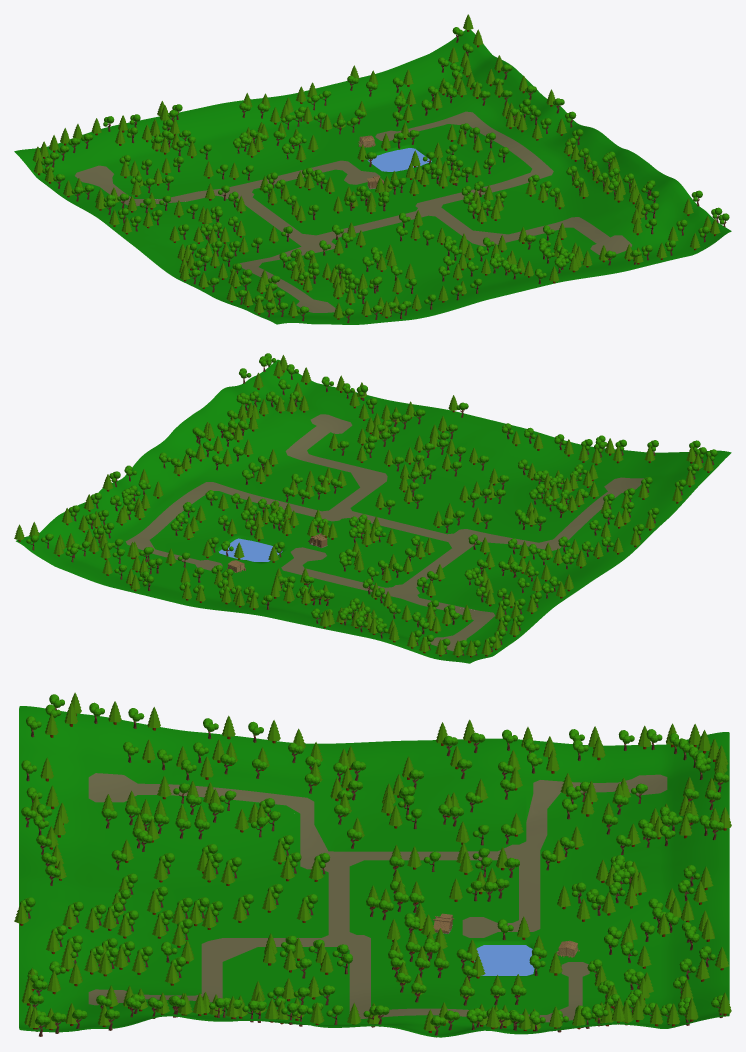
The model's file is village_arranged 1.fbx.
3 renders of one model, top to bottom at view 1: azimuth 30°, elevation 25°; view 2: azimuth 150°, elevation 25°; view 3: azimuth 270°, elevation 25°, orthographic. The views are drawn at different scales.
Visible parts, largest first — view 1: ground, road, lake; view 2: ground, road, lake; view 3: ground, road, lake.
Part boxes in pixels (x1,y1,x2,y2): ground: (14, 29, 731, 324); road: (75, 111, 631, 312); lake: (367, 148, 431, 171); ground: (16, 359, 731, 663); road: (125, 414, 644, 651); lake: (218, 538, 282, 561); ground: (19, 706, 729, 1037); road: (88, 773, 667, 1022); lake: (474, 945, 534, 975).
Bounding box in the file's own units: 55192 × 7151 × 55005.
